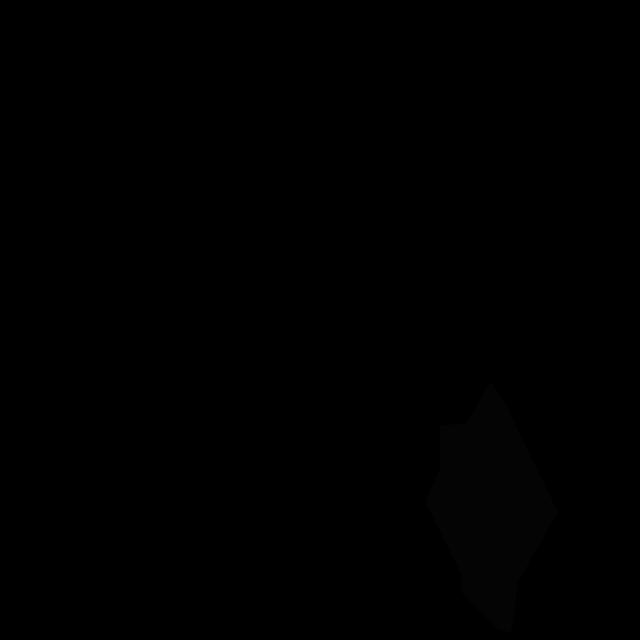soft_plastic: (425, 381, 558, 633)
